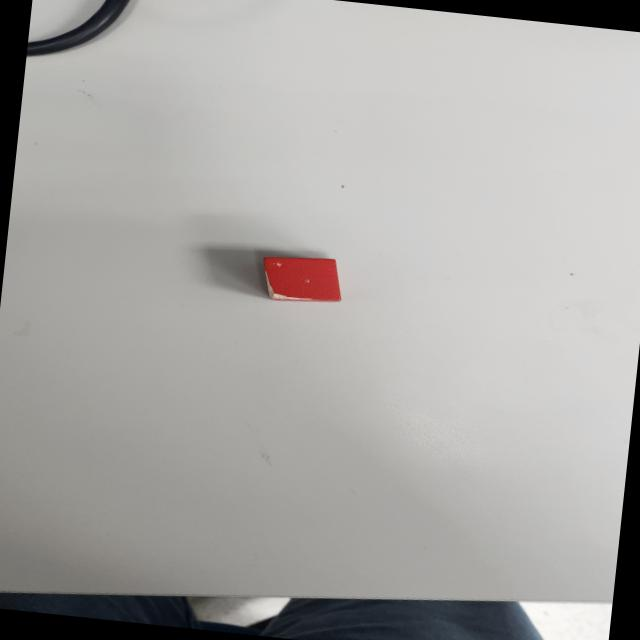broken: (258, 250, 346, 308)
